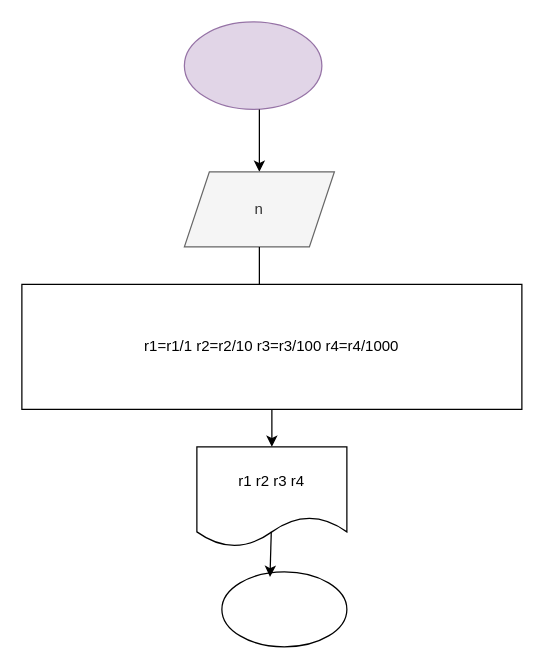
Image size: 544x669. Some labels were removed from this diagram. Here are the shapes that lost their labels. From the top down, the centre of each, then its label:
At (252,65): "Inicio".
At (284,609): "fin".
